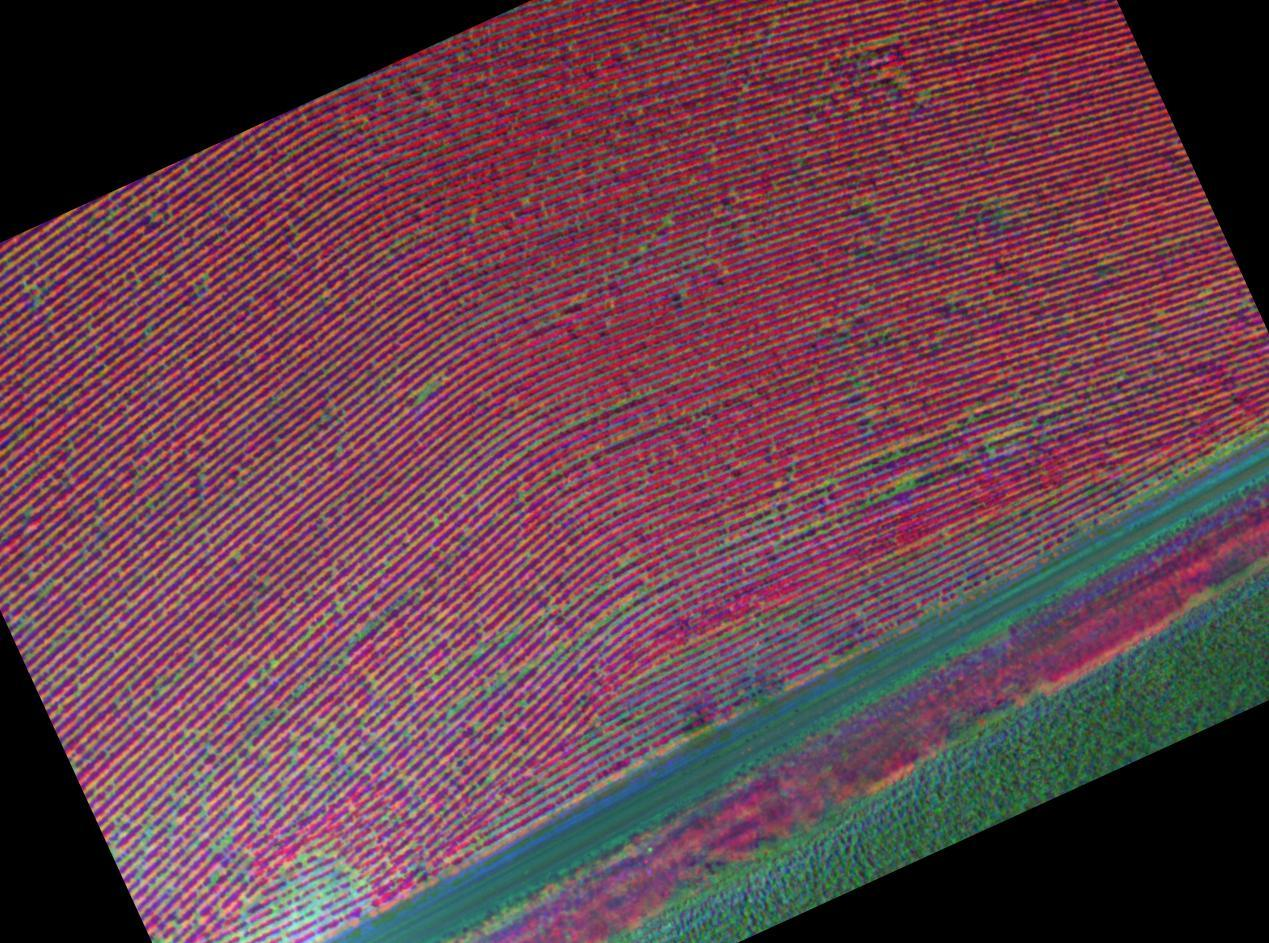dc: (898, 485, 906, 491), (430, 382, 437, 388), (523, 666, 530, 671), (317, 851, 322, 856), (272, 661, 277, 665), (493, 772, 497, 777), (664, 217, 668, 221), (622, 562, 626, 566), (324, 898, 328, 902), (419, 392, 424, 395), (339, 865, 344, 868), (920, 92, 924, 95), (352, 872, 355, 875)
